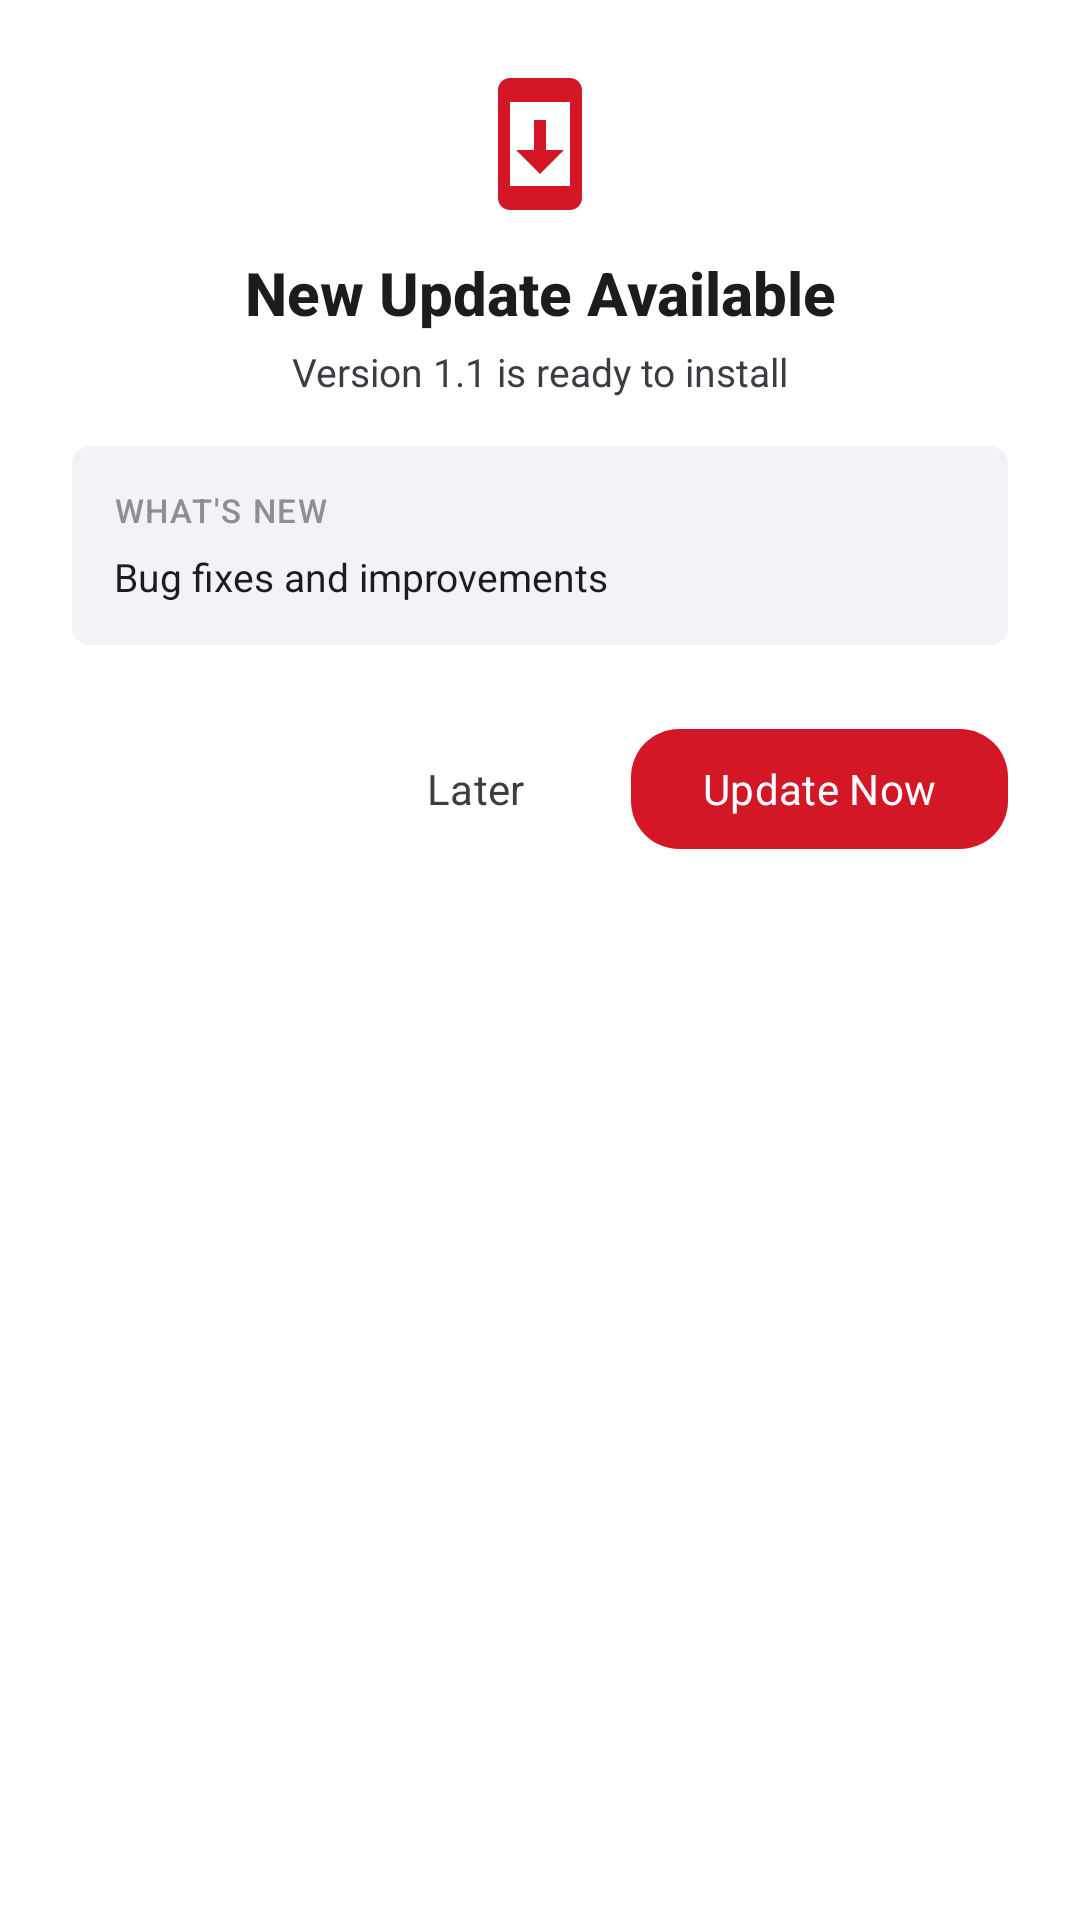

Screen size 1080w x 1920h. Icon name, then its box in pixels as region(x1, y1, x2, y2):
system update: region(498, 78, 582, 210)
